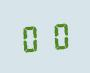zero: (19, 22, 44, 52), (45, 20, 70, 50)
